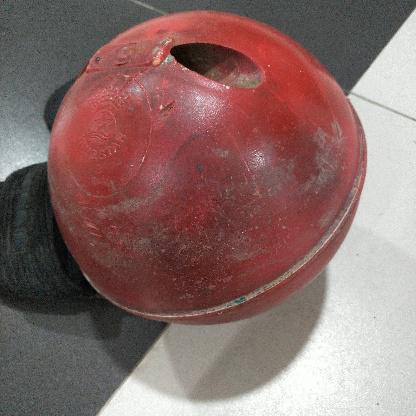red_buoy: (49, 12, 370, 332)
